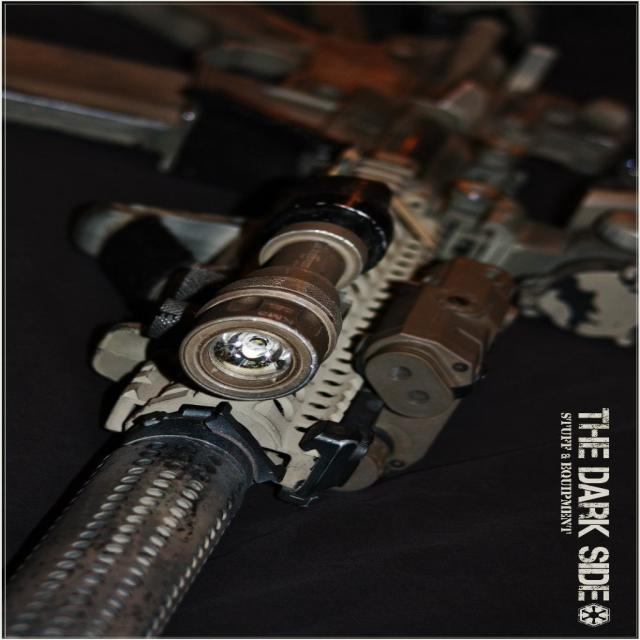firearm: (2, 2, 634, 636)
